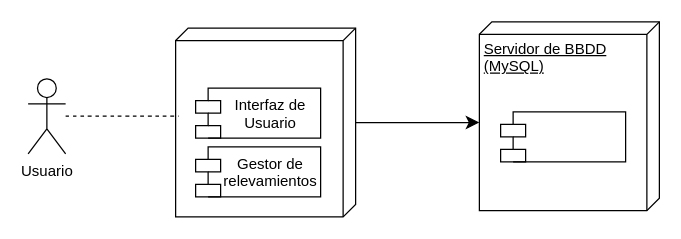
Some shapes in this 681 by 239 pixel diagram are drawn without their labels. The box of each missing label's shape, as (x1, y1, x2, y2) in pixels:
Aplicacion: (174, 27, 356, 217)
Base de datos relevamientos: (499, 111, 626, 162)
